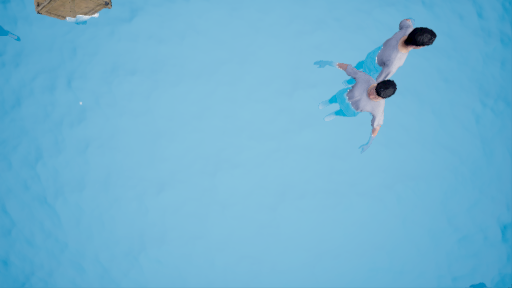person: (323, 52, 395, 157), (368, 25, 435, 85)
